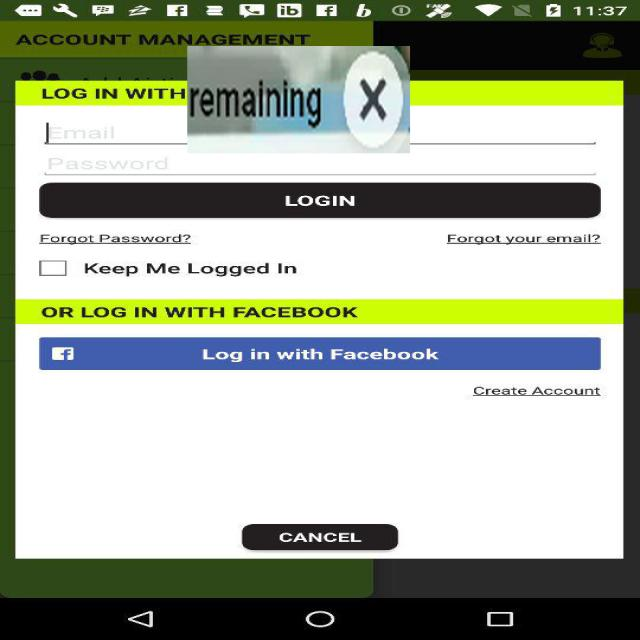misdirection: (187, 46, 410, 153)
